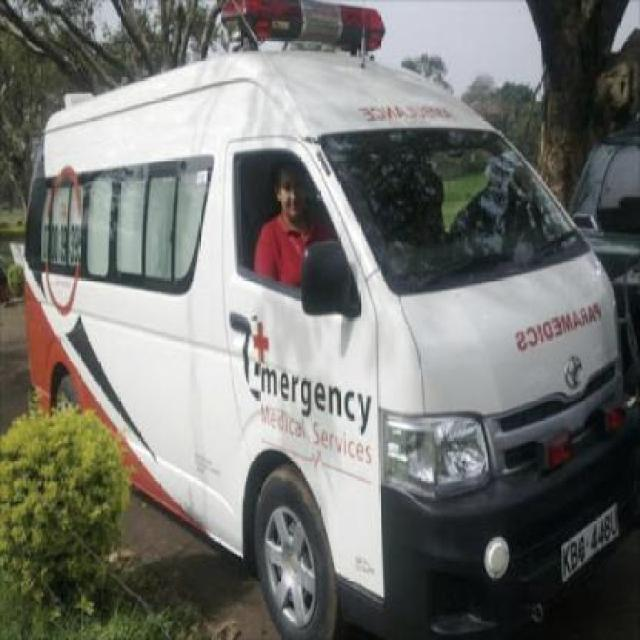emergency: (17, 1, 637, 637)
